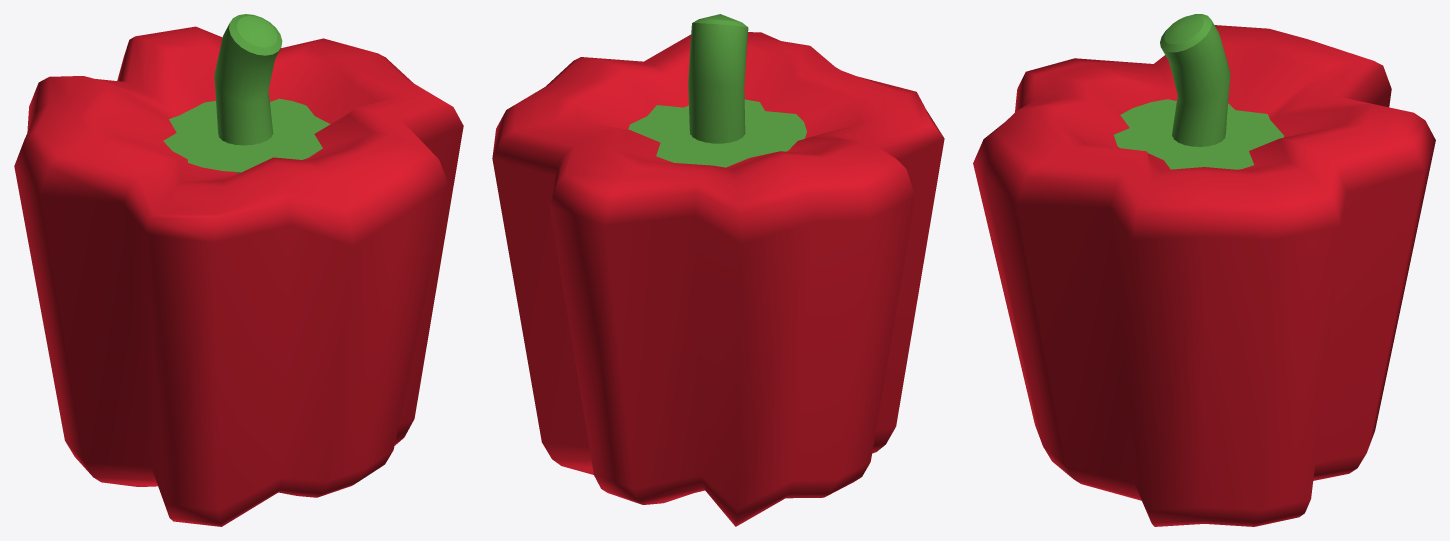
File: mesh_Paprika.fbx
3 renders of one model, left to right at view 1: azimuth 30°, elevation 25°; view 2: azimuth 150°, elevation 25°; view 3: azimuth 270°, elevation 25°, orthographic.
Parts seen in each view (by area): view 1: mesh_Paprika; view 2: mesh_Paprika; view 3: mesh_Paprika.
Part boxes in pixels (x1,y1,x2,y2): mesh_Paprika: (14,14,463,526); mesh_Paprika: (492,14,944,526); mesh_Paprika: (973,14,1435,526).
Size of the model in its own units: 0.0896 by 0.1007 by 0.0919.
